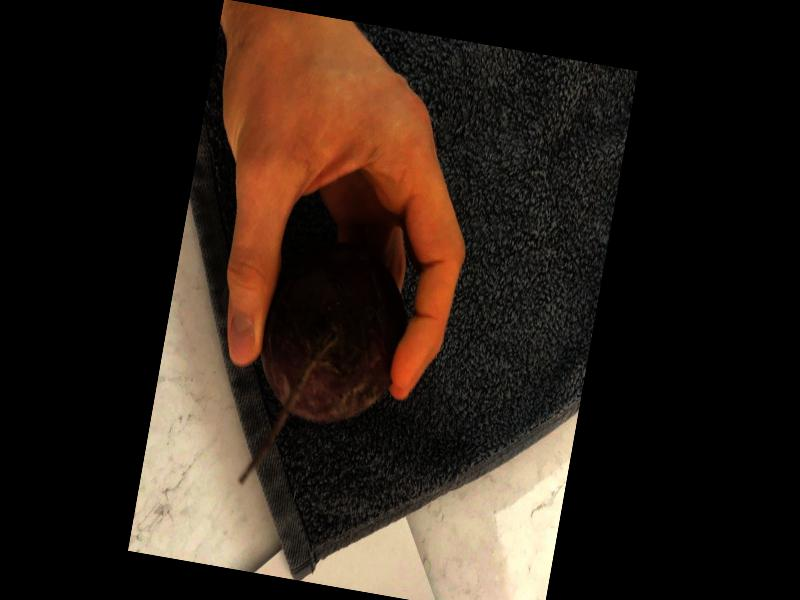Beet: (237, 233, 418, 507)
